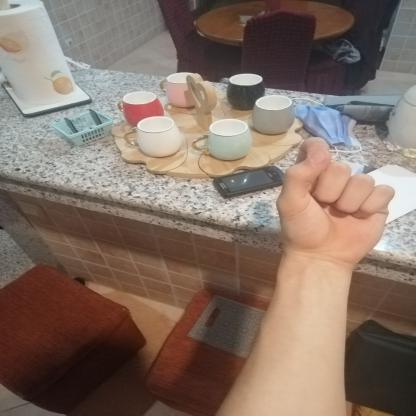FAA: (262, 126, 407, 280)
